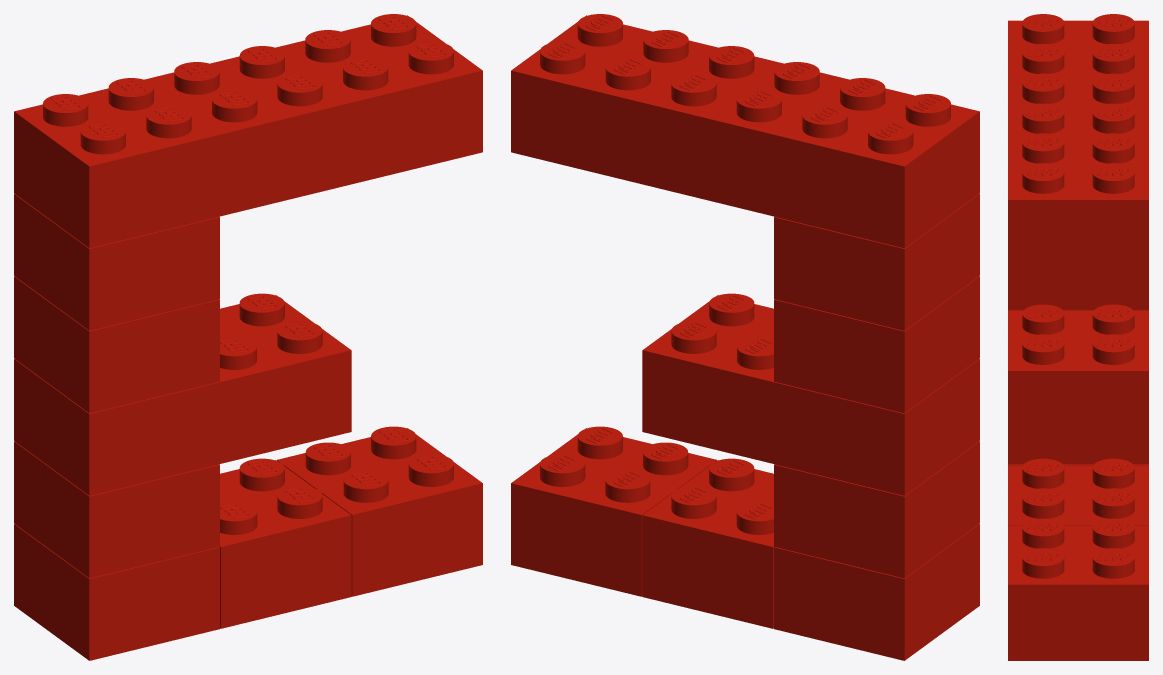
The picture shows the model from 3 angles, left to right: view 1: azimuth 30°, elevation 25°; view 2: azimuth 150°, elevation 25°; view 3: azimuth 270°, elevation 25°; orthographic projection. The views are drawn at different scales.
Parts seen in each view (by area): view 1: Inner-Node-E_dot_io-6, Inner-Node-E_dot_io-7, Inner-Node-E_dot_io-2, Inner-Node-E_dot_io-5, Inner-Node-E_dot_io-1, Inner-Node-E_dot_io-0, Inner-Node-E_dot_io-4, Inner-Node-E_dot_io-3; view 2: Inner-Node-E_dot_io-6, Inner-Node-E_dot_io-7, Inner-Node-E_dot_io-2, Inner-Node-E_dot_io-5, Inner-Node-E_dot_io-1, Inner-Node-E_dot_io-0, Inner-Node-E_dot_io-4, Inner-Node-E_dot_io-3; view 3: Inner-Node-E_dot_io-6, Inner-Node-E_dot_io-7, Inner-Node-E_dot_io-2, Inner-Node-E_dot_io-5, Inner-Node-E_dot_io-1, Inner-Node-E_dot_io-0.
Boxes of the visible parts, x1=… form: Inner-Node-E_dot_io-6: x1=14, y1=14, x2=482, y2=248; Inner-Node-E_dot_io-7: x1=14, y1=293, x2=351, y2=495; Inner-Node-E_dot_io-2: x1=277, y1=426, x2=482, y2=596; Inner-Node-E_dot_io-5: x1=219, y1=458, x2=351, y2=628; Inner-Node-E_dot_io-1: x1=14, y1=276, x2=219, y2=413; Inner-Node-E_dot_io-0: x1=14, y1=441, x2=219, y2=578; Inner-Node-E_dot_io-4: x1=14, y1=193, x2=219, y2=330; Inner-Node-E_dot_io-3: x1=14, y1=524, x2=219, y2=660; Inner-Node-E_dot_io-6: x1=511, y1=14, x2=979, y2=248; Inner-Node-E_dot_io-7: x1=642, y1=293, x2=979, y2=495; Inner-Node-E_dot_io-2: x1=511, y1=426, x2=716, y2=596; Inner-Node-E_dot_io-5: x1=642, y1=458, x2=774, y2=628; Inner-Node-E_dot_io-1: x1=774, y1=276, x2=979, y2=413; Inner-Node-E_dot_io-0: x1=774, y1=441, x2=979, y2=578; Inner-Node-E_dot_io-4: x1=774, y1=193, x2=979, y2=330; Inner-Node-E_dot_io-3: x1=774, y1=524, x2=979, y2=660; Inner-Node-E_dot_io-6: x1=1008, y1=14, x2=1148, y2=275; Inner-Node-E_dot_io-7: x1=1008, y1=304, x2=1148, y2=447; Inner-Node-E_dot_io-2: x1=1008, y1=518, x2=1148, y2=660; Inner-Node-E_dot_io-5: x1=1008, y1=458, x2=1148, y2=525; Inner-Node-E_dot_io-1: x1=1008, y1=276, x2=1148, y2=310; Inner-Node-E_dot_io-0: x1=1008, y1=447, x2=1148, y2=464.
Bounding box in the file's own units: 120 × 148 × 39.75.
